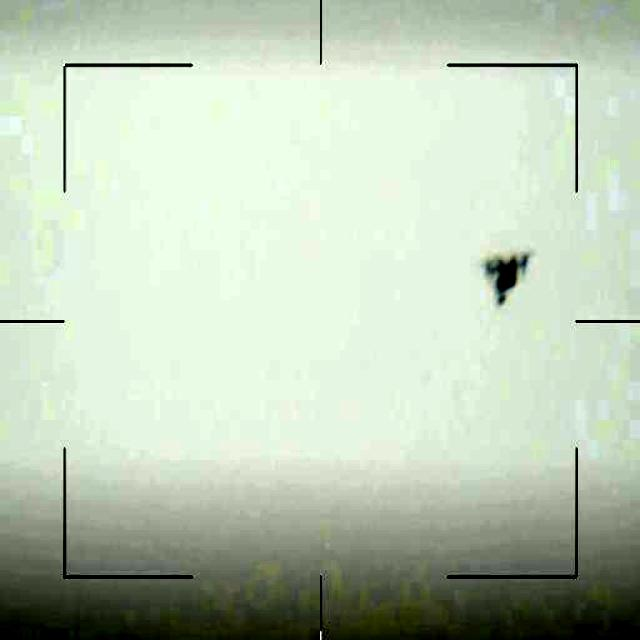bird: (479, 246, 538, 311)
